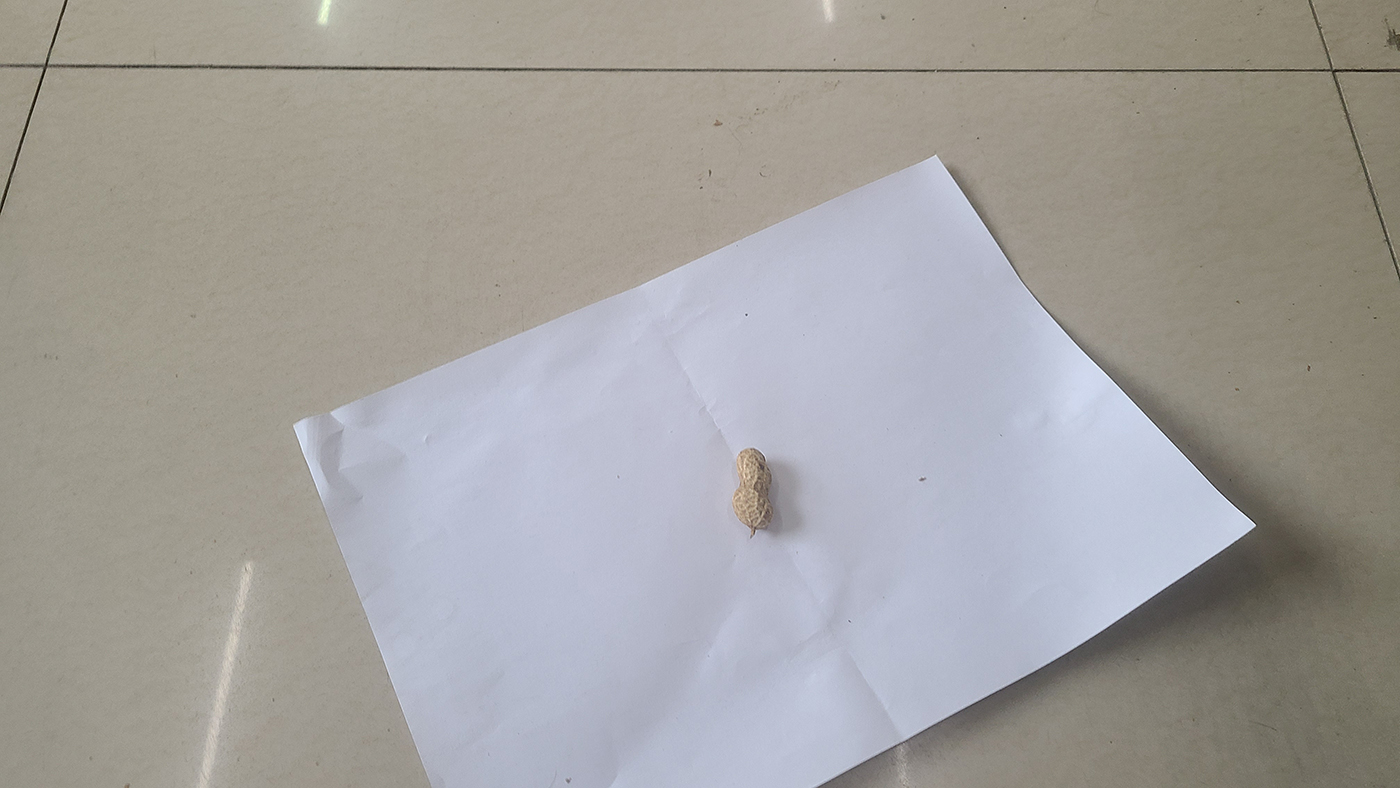h: (732, 449, 775, 531)
